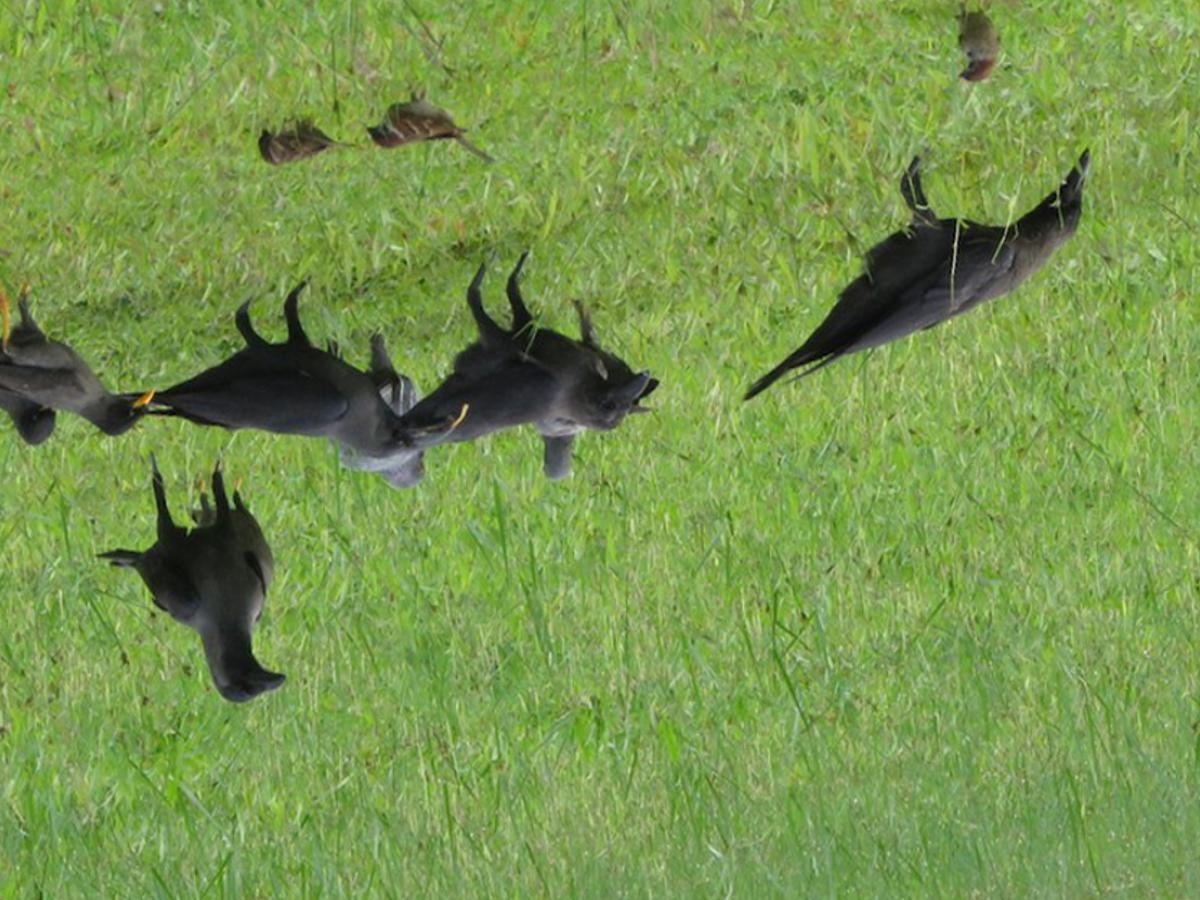crow: (171, 275, 482, 474), (736, 202, 1016, 411), (118, 498, 296, 721), (418, 295, 658, 443), (1, 313, 153, 440), (1015, 147, 1097, 285)
